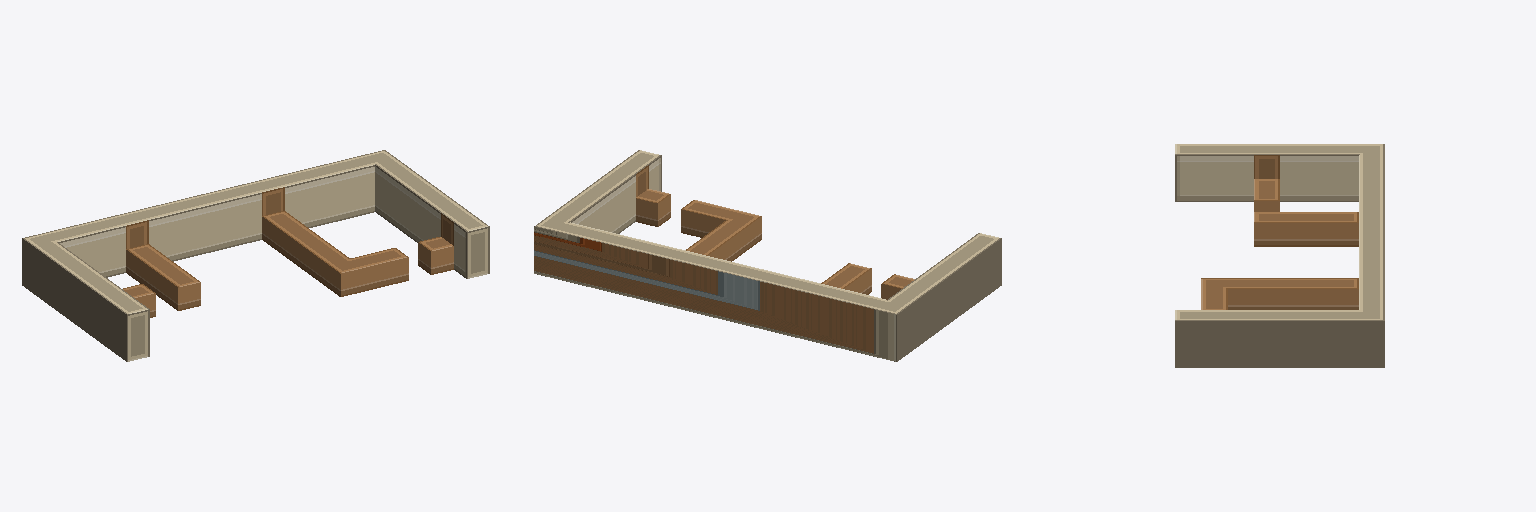
The picture shows the model from 3 angles: view 1: azimuth 30°, elevation 25°; view 2: azimuth 150°, elevation 25°; view 3: azimuth 270°, elevation 25°; orthographic projection.
Visible parts, largest first — view 1: Grid_Grid.001; view 2: Grid_Grid.001; view 3: Grid_Grid.001.
Part boxes in pixels (left/top/right/bottom): Grid_Grid.001: left=22, top=150, right=489, bottom=361; Grid_Grid.001: left=534, top=150, right=1001, bottom=361; Grid_Grid.001: left=1175, top=144, right=1384, bottom=367.
Size of the model in its own units: 10.24 by 1.28 by 5.12.
Materials: 5 (4 with a texture image).